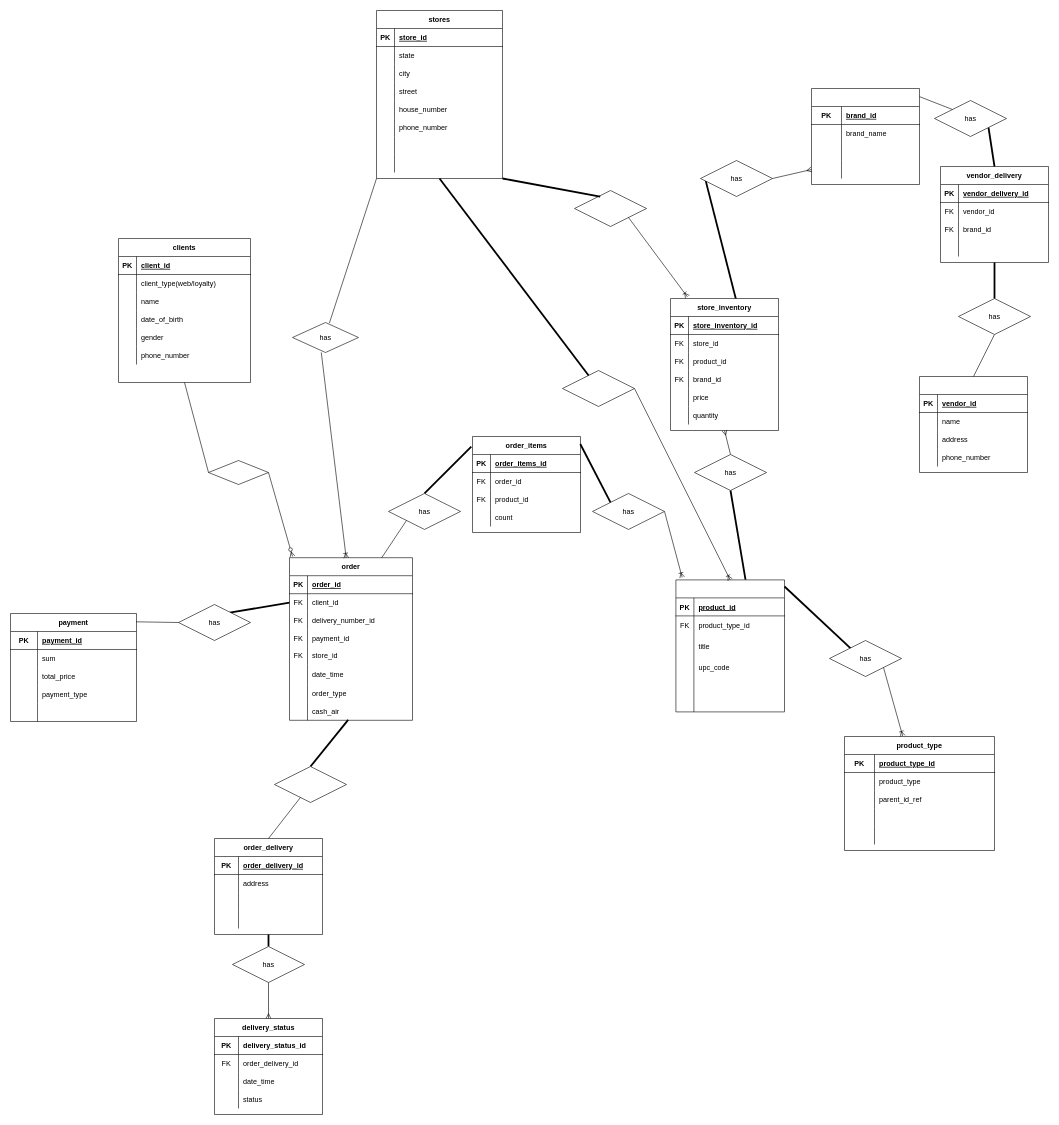
Image size: 1059x1125. Some labels were removed from this diagram. The box of each missing label's shape, as (x1, y1, x2, y2) in pixels:
brands: (811, 88, 920, 184)
can be: (274, 766, 346, 802)
collaborates: (574, 190, 646, 226)
makes: (208, 460, 268, 484)
manages: (562, 370, 634, 406)
products: (675, 579, 784, 712)
vendors: (919, 376, 1028, 472)
